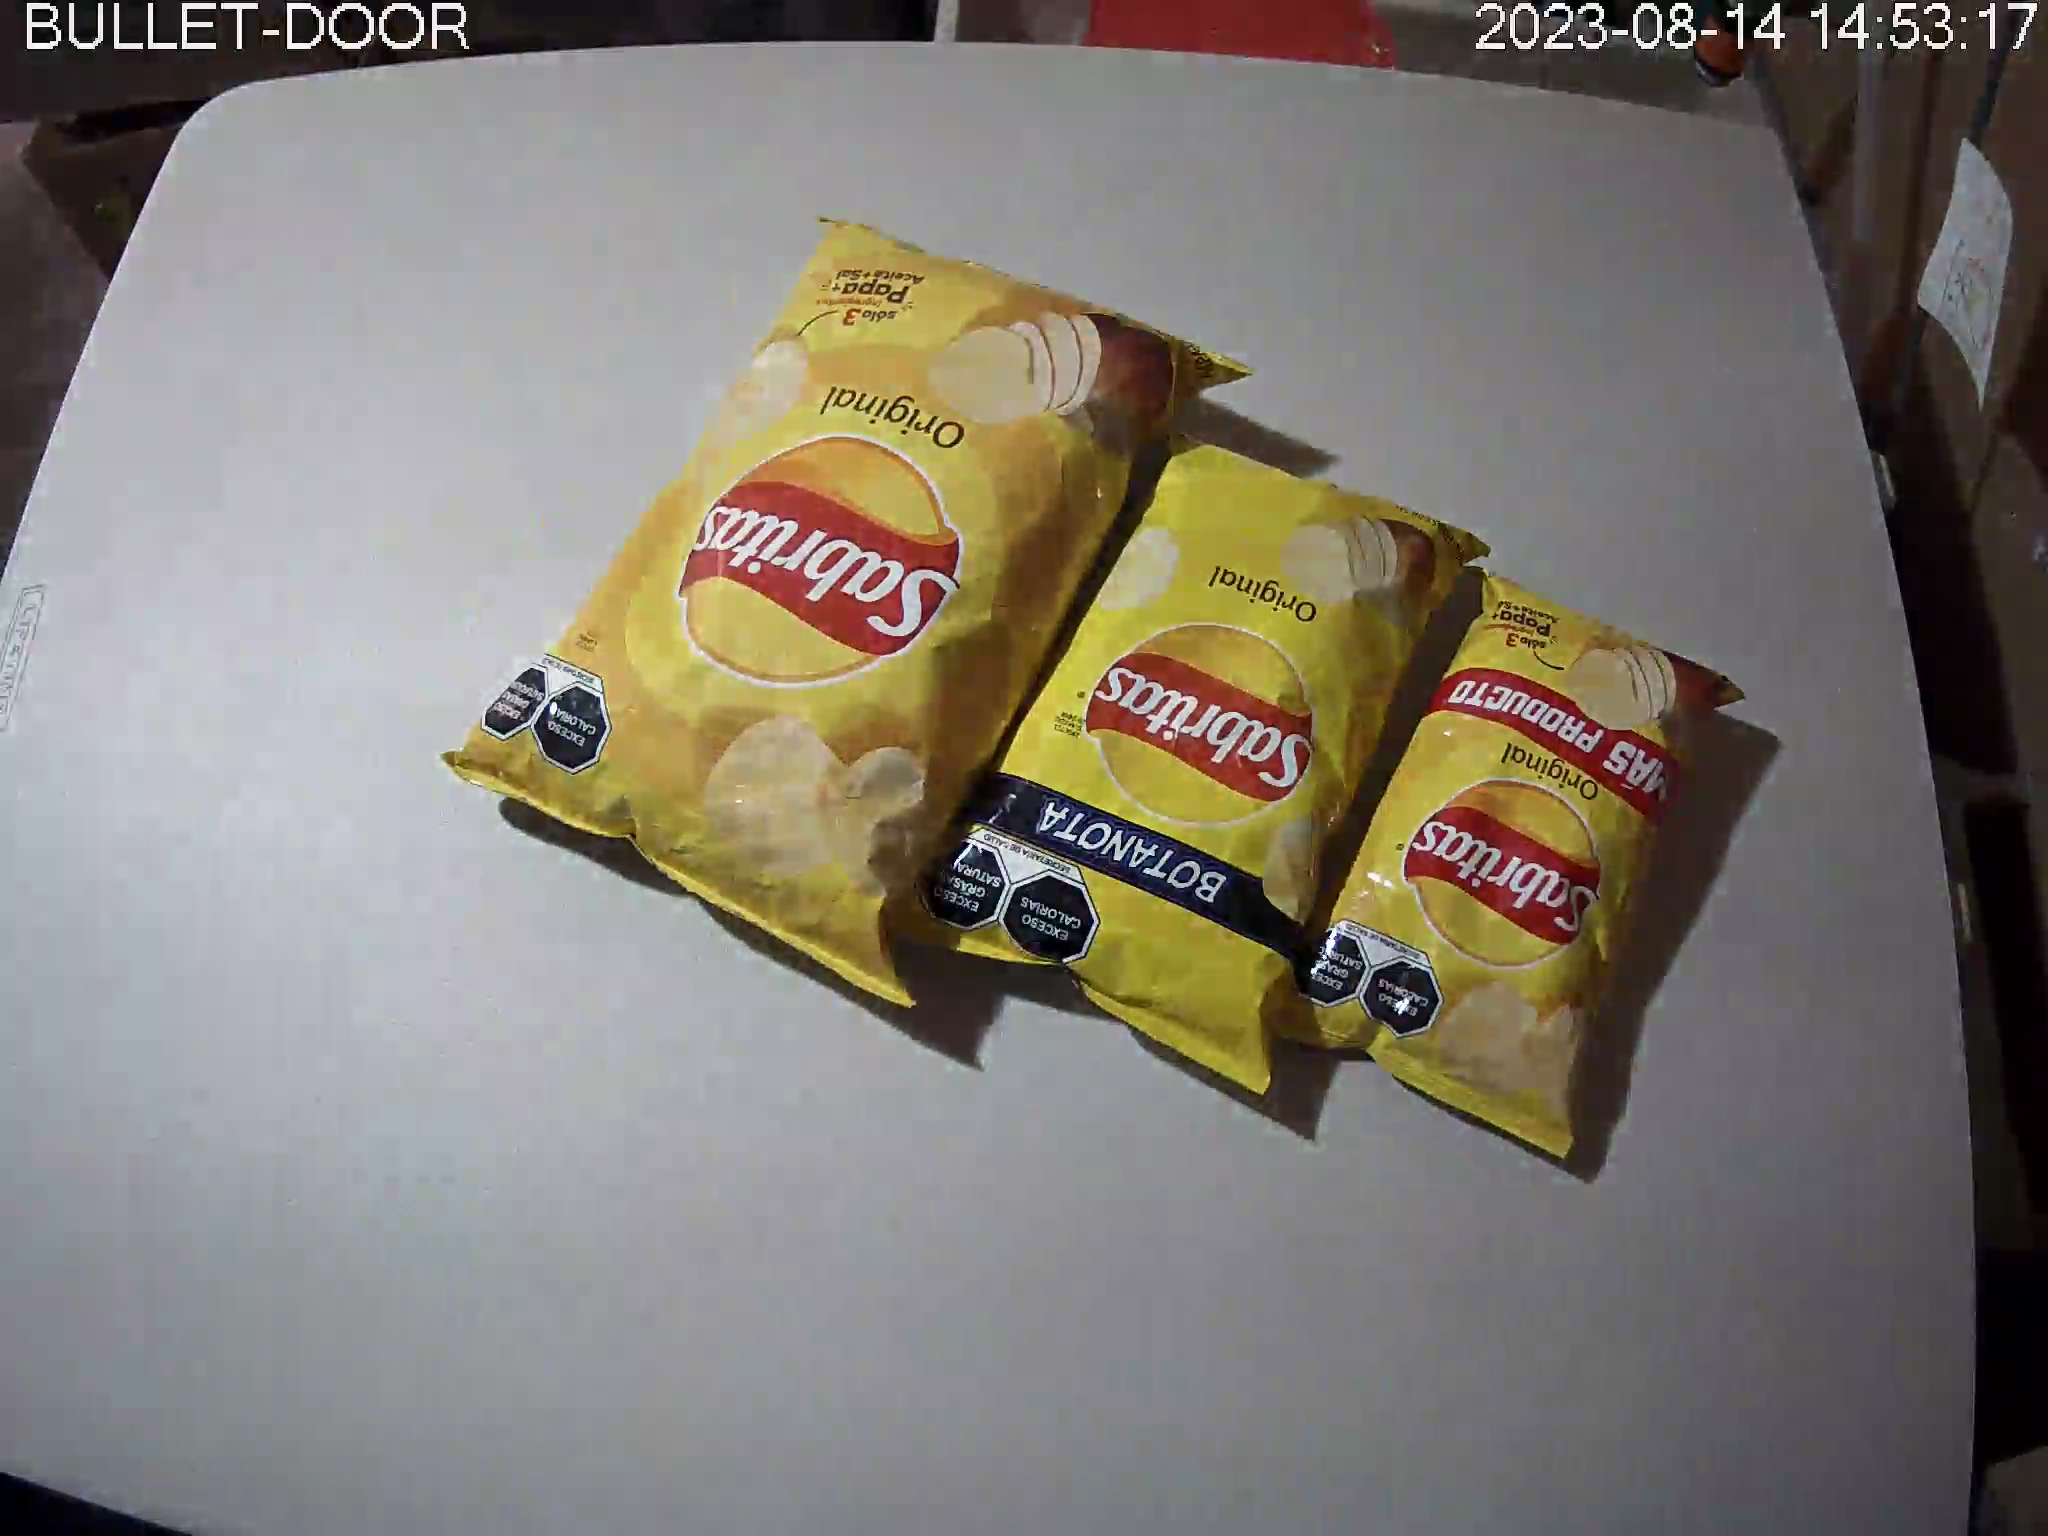Sabritas_160_F: (445, 215, 1230, 1012)
Sabritas_45_F: (1280, 570, 1751, 1167)
Sabritas_64_F: (921, 431, 1492, 1097)
